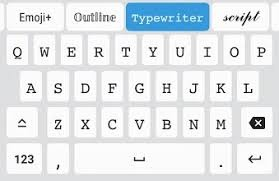keyboard: (5, 32, 276, 177)
